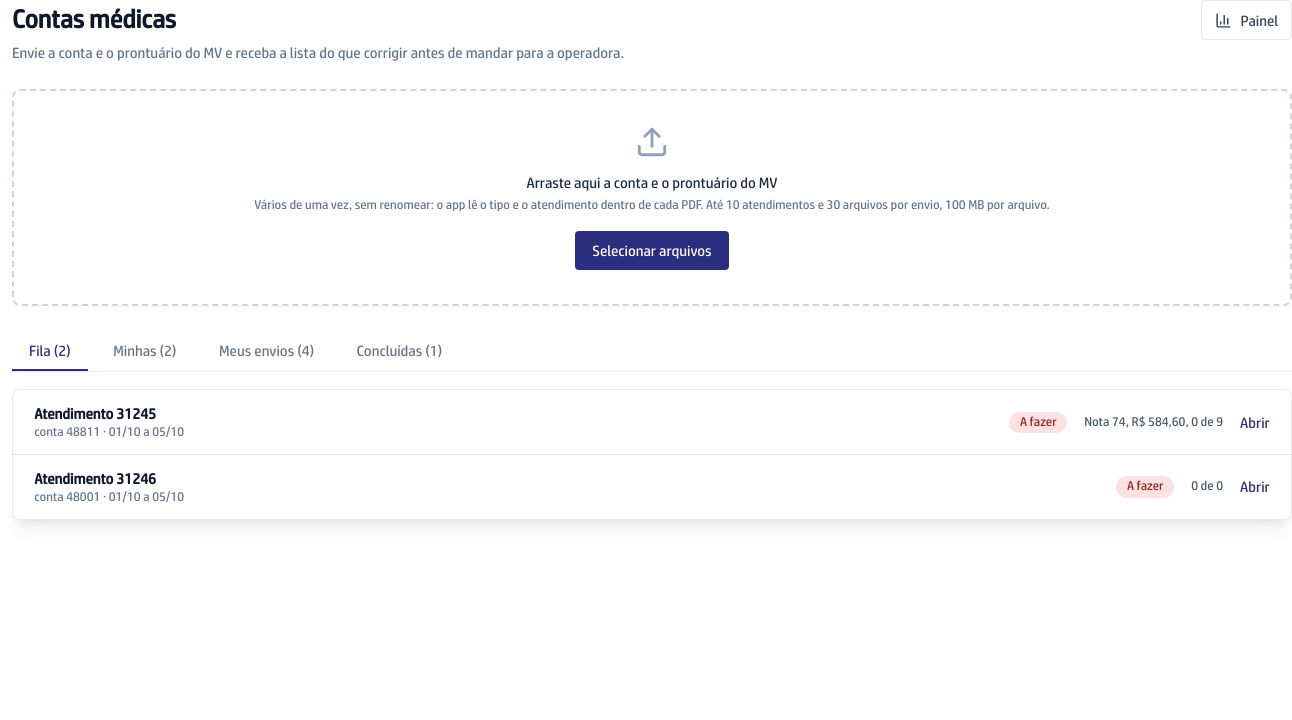
Scenario: a fila comum › Meus envios mostra o que ainda não ficou pronto, e o erro traz o motivo com Enviar de novo
Expected: the 1st list item is shown, [13, 390, 1291, 455]
Click the tab "Meus envios (4)": coordinates (267, 351) [202, 331, 331, 371]
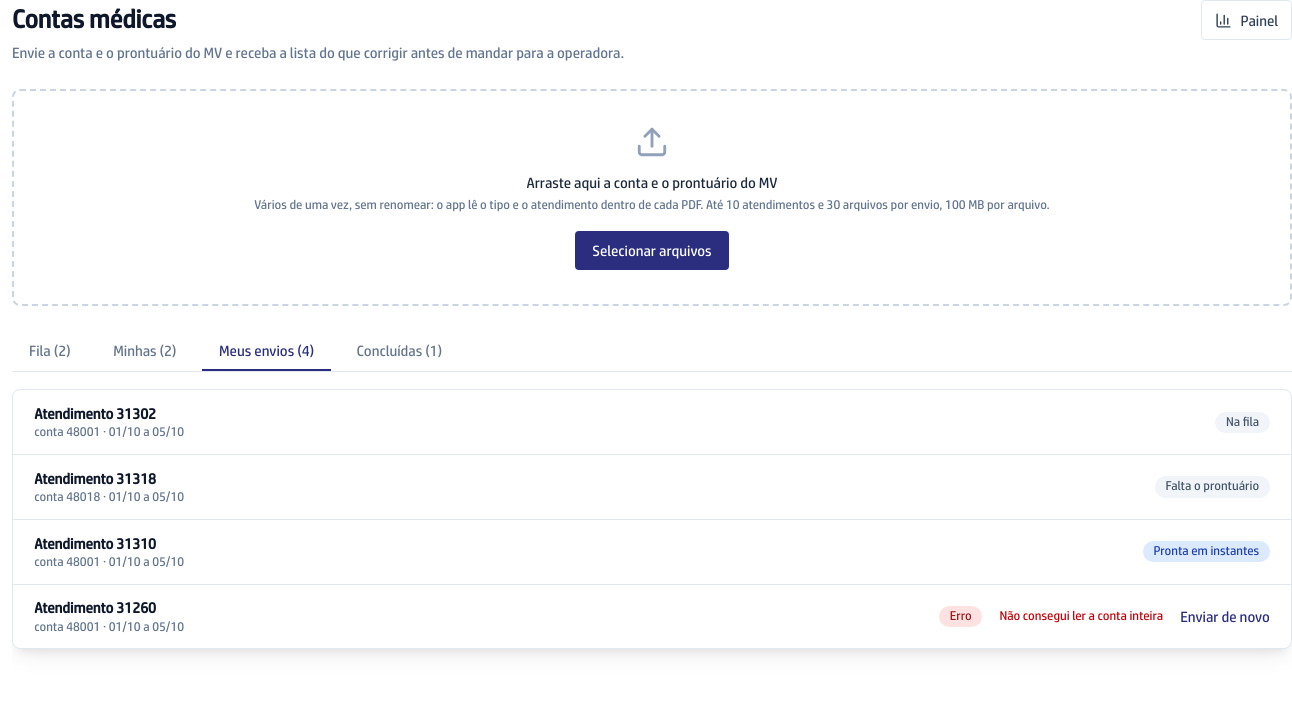
Expected: the list item "Atendimento 31302 conta 48001 · 01/10 a 05/10 Na fila" is shown, [13, 390, 1291, 455]
Expected: the 2nd list item shows "Falta o prontuário", [1166, 478, 1259, 494]
Expected: the 3rd list item shows "Pronta em instantes", [1153, 543, 1259, 558]
